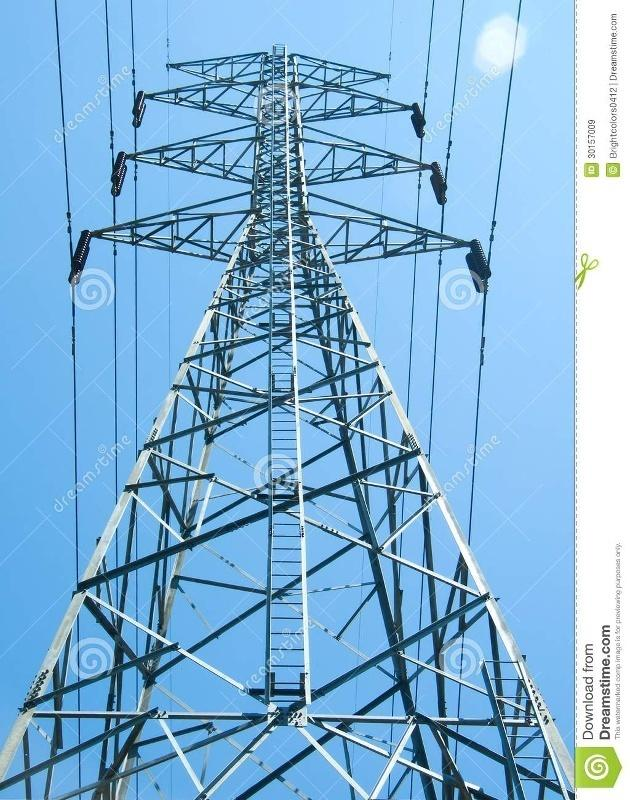power_tower: (30, 27, 563, 786)
